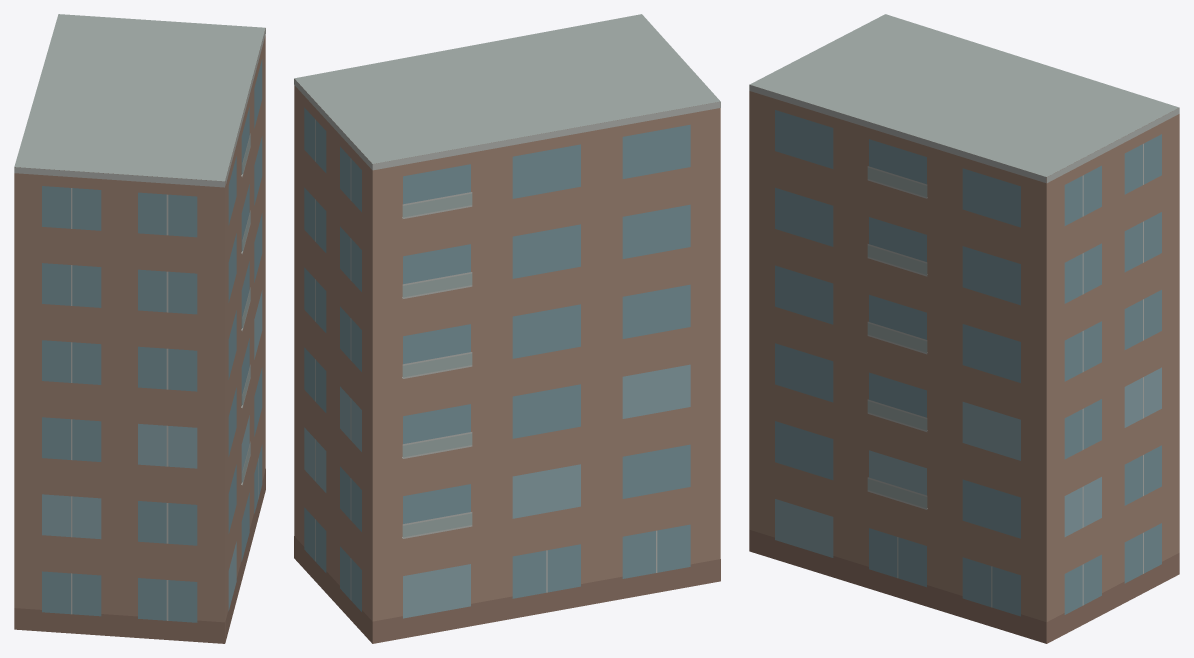
File: survey-upis-32657216.glb
3 renders of one model, left to right at view 1: azimuth 30°, elevation 25°; view 2: azimuth 150°, elevation 25°; view 3: azimuth 270°, elevation 25°, orthographic. The views are drawn at different scales.
Visible parts, largest first — view 1: survey-upis-32657216.tmp; view 2: survey-upis-32657216.tmp; view 3: survey-upis-32657216.tmp.
Part boxes in pixels (box(x1,y1,x2,y2)): survey-upis-32657216.tmp: box(14, 14, 265, 643); survey-upis-32657216.tmp: box(294, 14, 720, 643); survey-upis-32657216.tmp: box(749, 14, 1179, 643).
Bounding box in the file's own units: 13.73 × 18.3 × 15.29.
